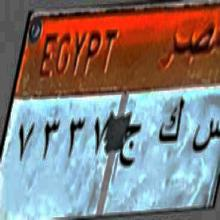3: (62, 114, 87, 165), (41, 111, 61, 159)
7: (88, 112, 113, 157), (16, 114, 37, 167)
jeem: (116, 117, 142, 174)
kaaf: (154, 89, 187, 154)
seen: (191, 110, 220, 156)
